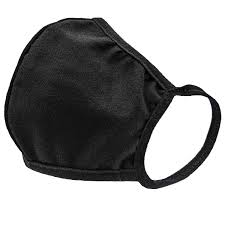cloth_mask: (3, 14, 225, 191)
